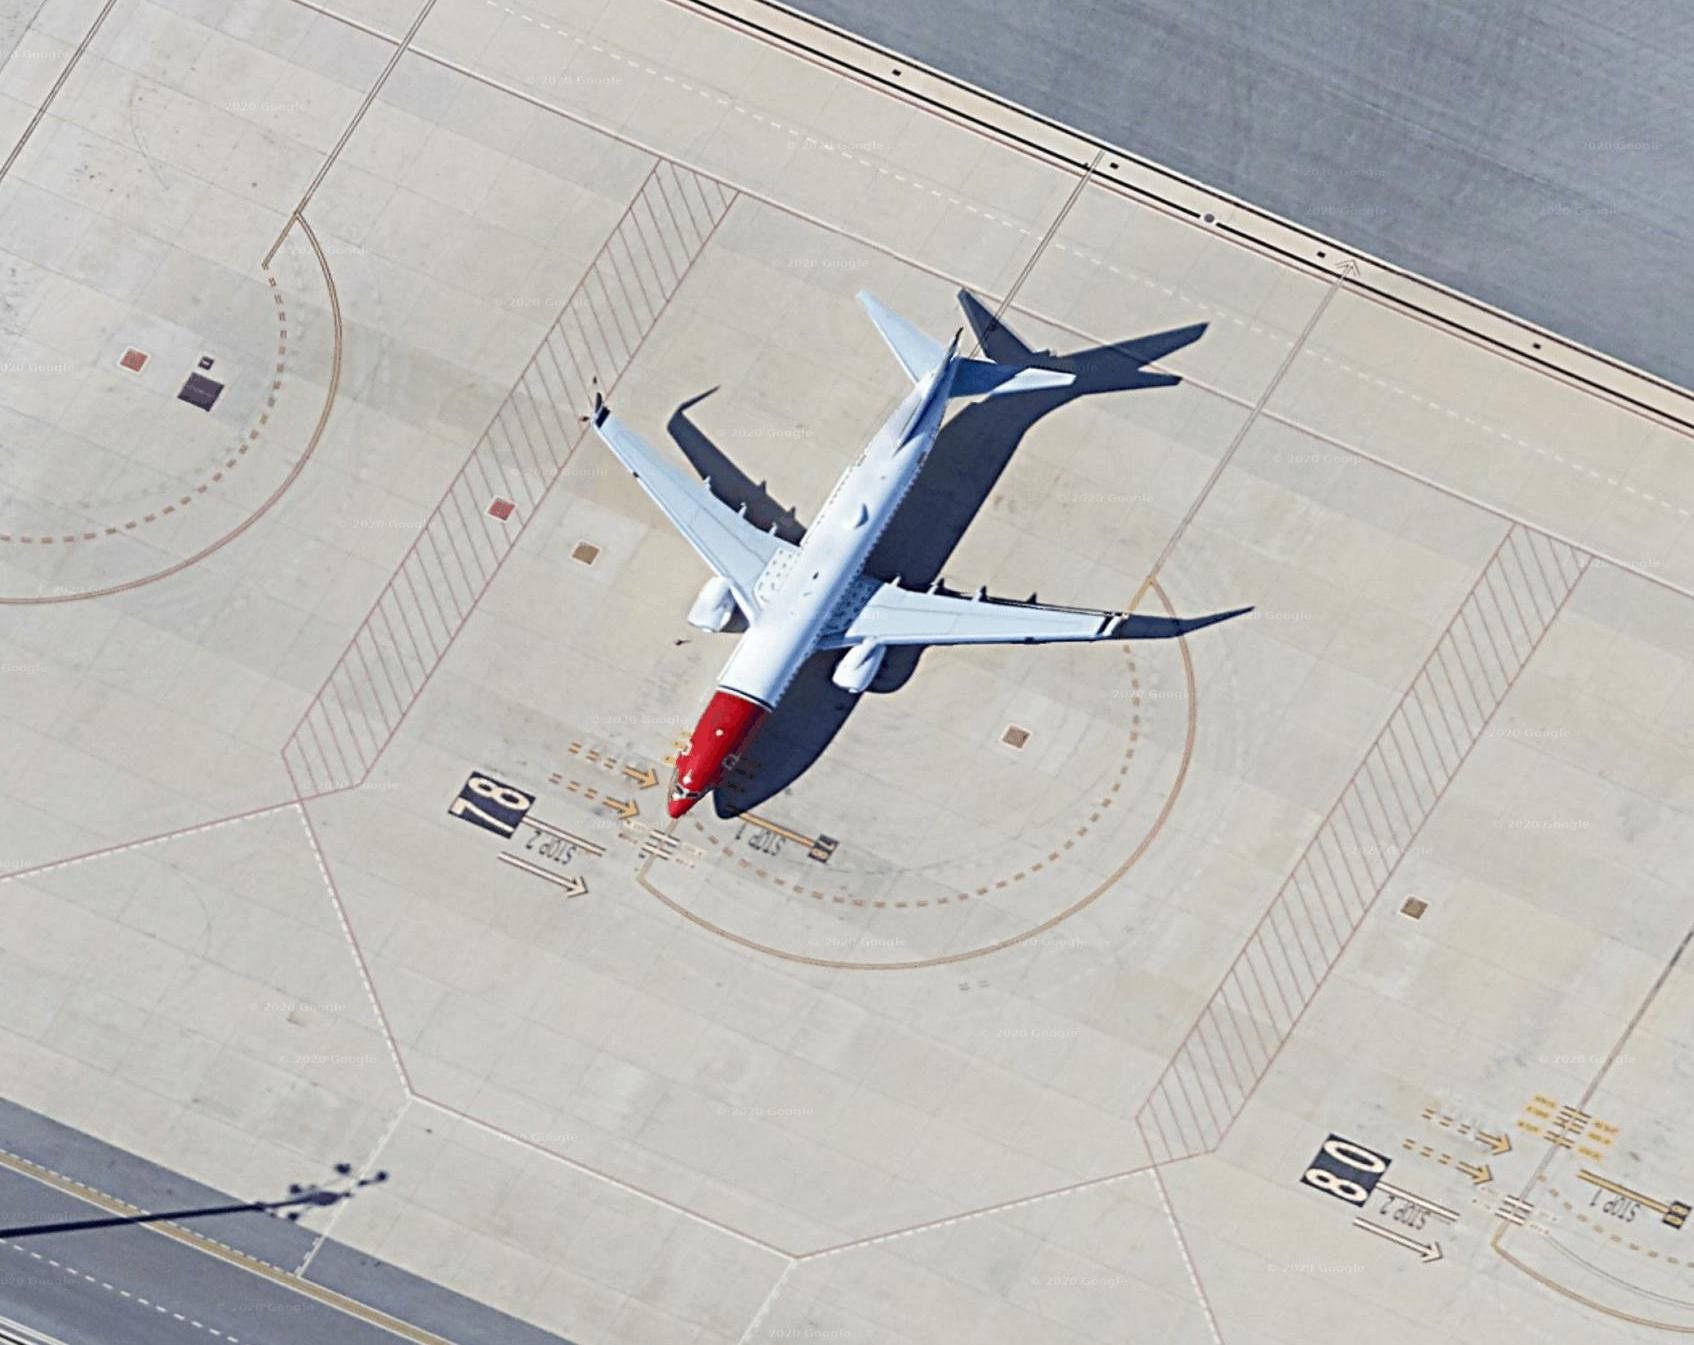plane: (507, 276, 1147, 833)
